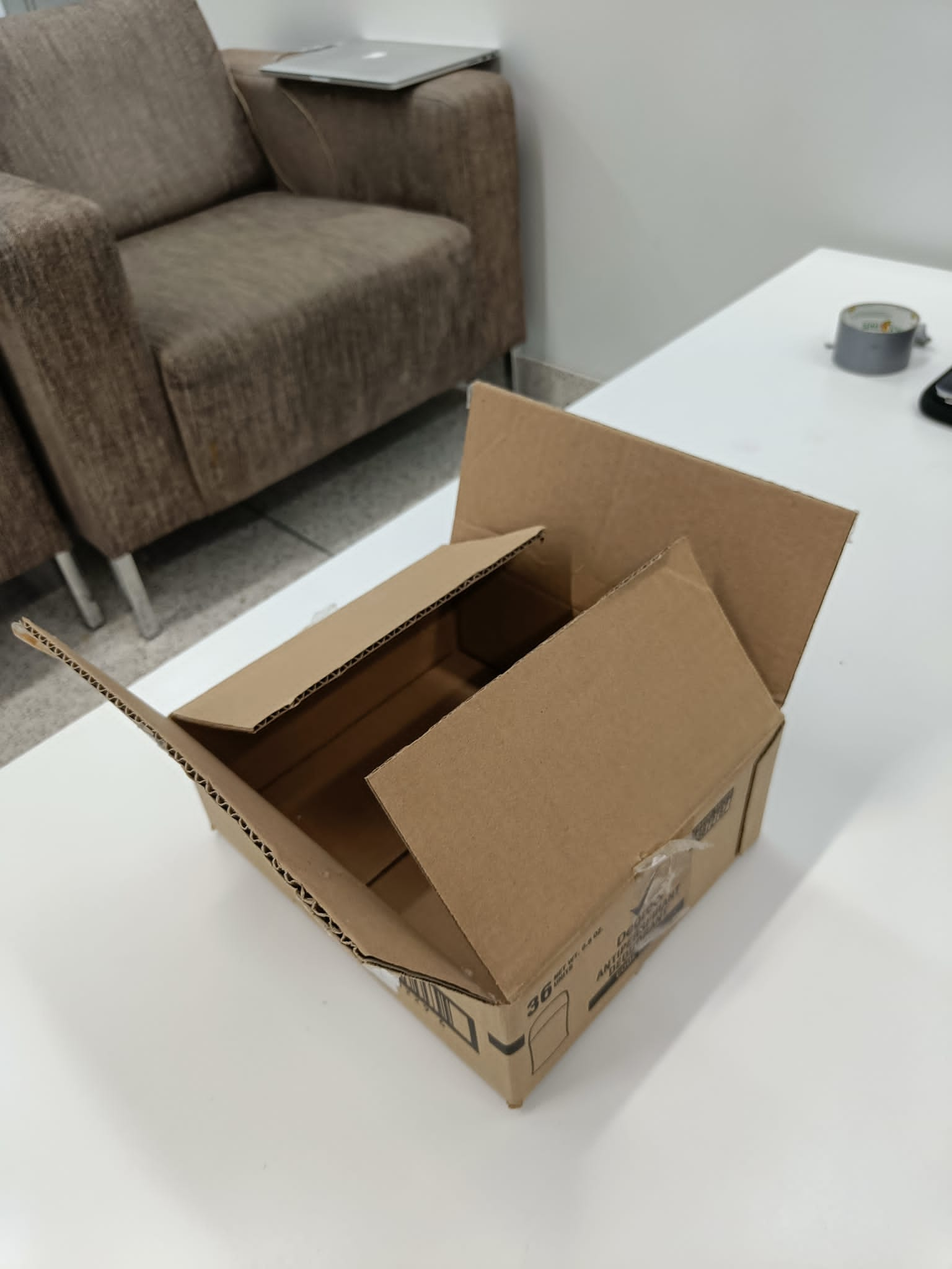box: (14, 384, 858, 1109)
crushed: (14, 384, 858, 1010)
